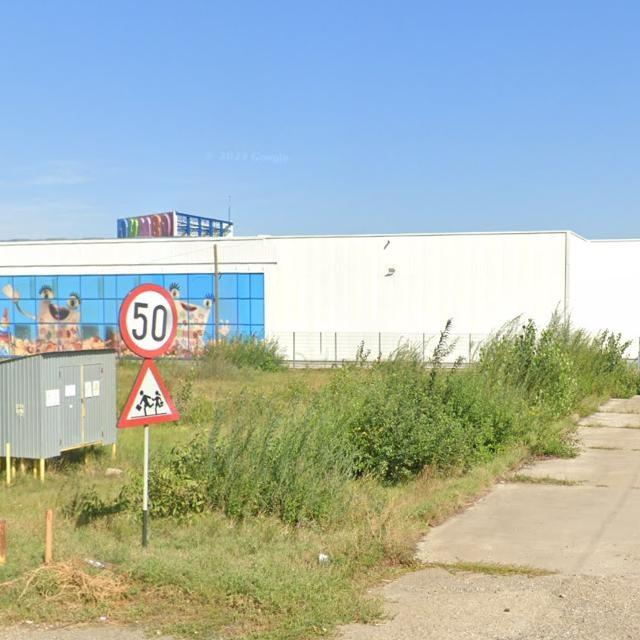forb_speed_over_50: (119, 284, 179, 355)
